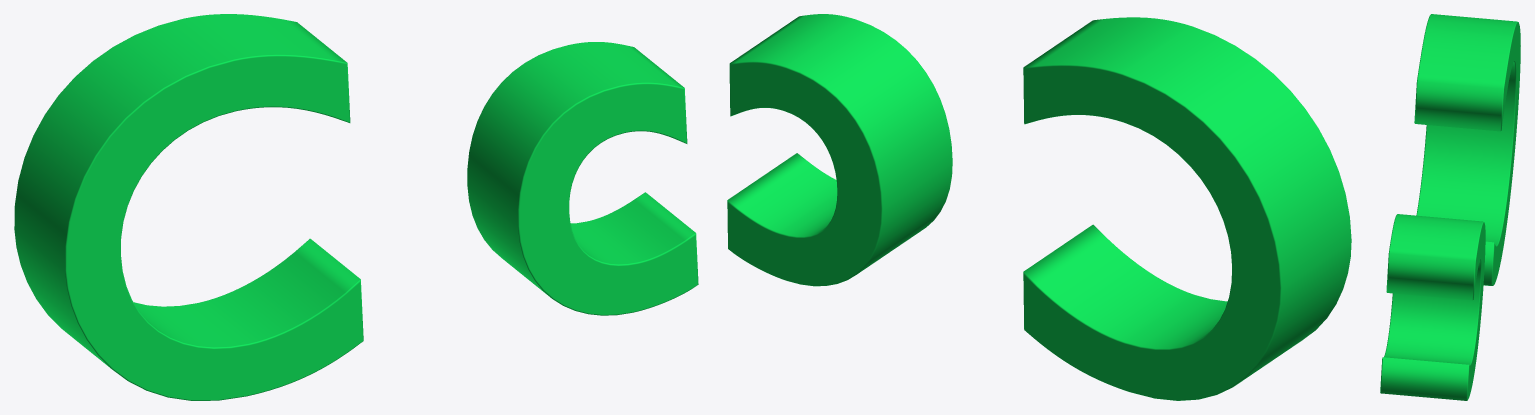
File: ObjectC.fbx
3 renders of one model, left to right at view 1: azimuth 30°, elevation 25°; view 2: azimuth 150°, elevation 25°; view 3: azimuth 270°, elevation 25°, orthographic. The views are drawn at different scales.
Parts seen in each view (by area): view 1: Text; view 2: Text; view 3: Text.
Boxes of the visible parts, x1,y1,x2,y2 form: Text: (14,14,698,400); Text: (727,14,1351,400); Text: (1380,14,1520,400).
Size of the model in its own units: 347 by 184 by 98.44.
